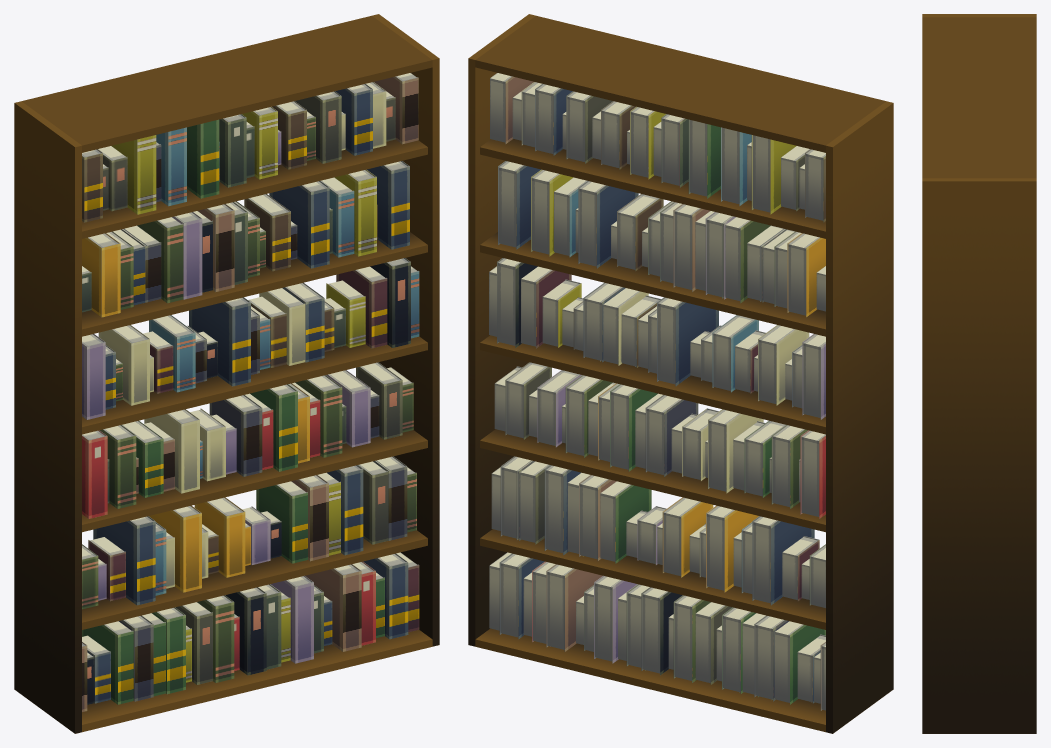
File: Bookshelf2.fbx
3 renders of one model, left to right at view 1: azimuth 30°, elevation 25°; view 2: azimuth 150°, elevation 25°; view 3: azimuth 270°, elevation 25°, orthographic. The views are drawn at different scales.
Parts seen in each view (by area): view 1: bookshelf2; view 2: bookshelf2; view 3: bookshelf2.
Part boxes in pixels (box(x1,y1,x2,y2)): bookshelf2: box(14, 14, 439, 733); bookshelf2: box(468, 14, 893, 733); bookshelf2: box(922, 14, 1036, 733).
Bounding box in the file's own units: 10400 × 16000 × 3000.
